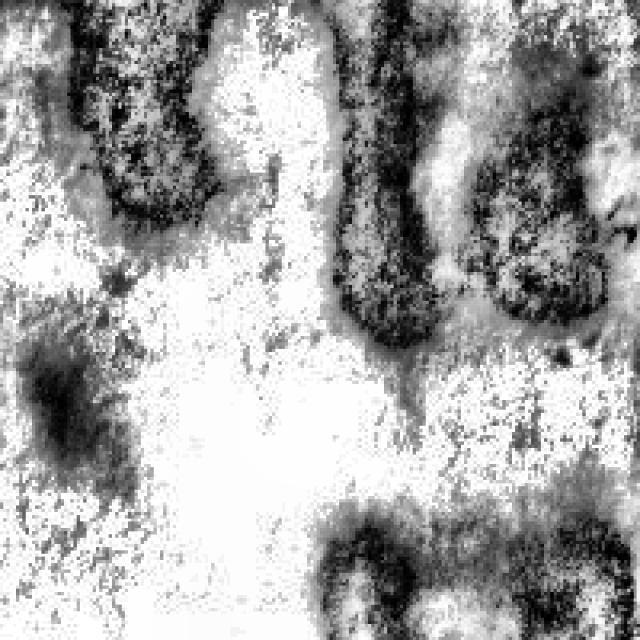Scratches: (304, 0, 451, 349), (458, 64, 620, 330), (58, 0, 230, 250), (483, 474, 637, 636), (300, 499, 420, 637), (19, 326, 99, 474)
